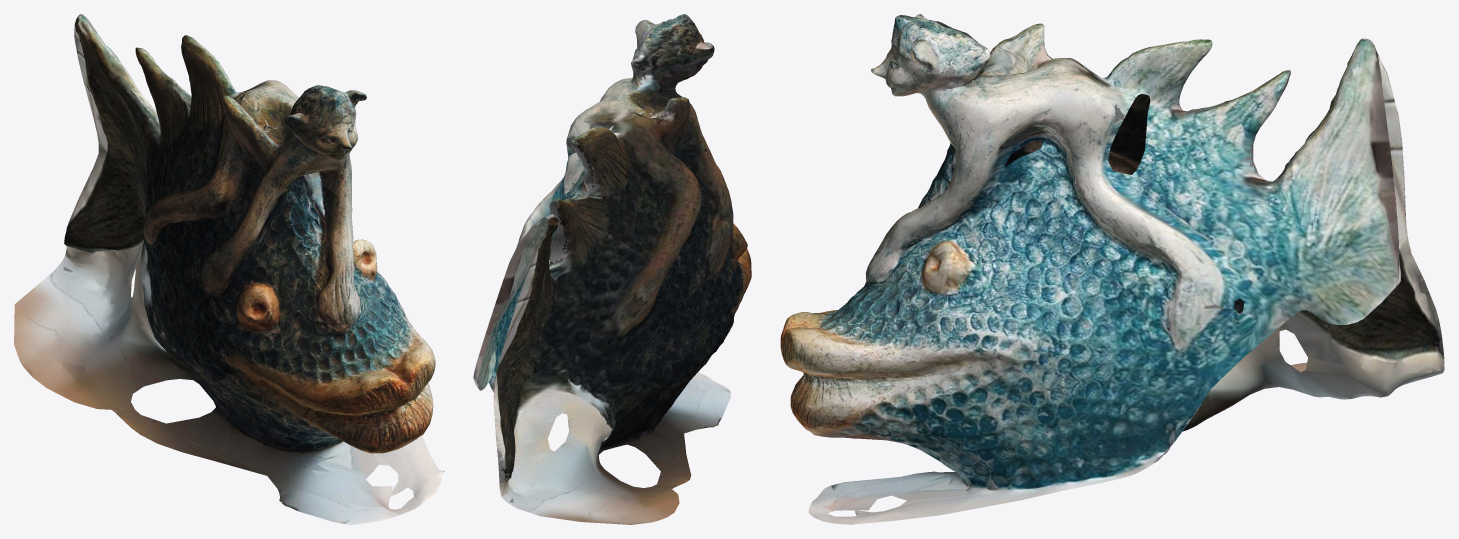
File: childFish.obj
3 views of the same model, side by side, from view 1: azimuth 30°, elevation 25°; view 2: azimuth 150°, elevation 25°; view 3: azimuth 270°, elevation 25° (orthographic). The views are drawn at different scales.
Parts seen in each view (by area): view 1: childFish; view 2: childFish; view 3: childFish.
Boxes of the visible parts, x1=… form: childFish: x1=14, y1=14, x2=444, y2=524; childFish: x1=473, y1=14, x2=751, y2=524; childFish: x1=780, y1=14, x2=1444, y2=524.
Size of the model in its own units: 9.45 by 14.94 by 18.61.
Materials: 2 (1 with a texture image).
